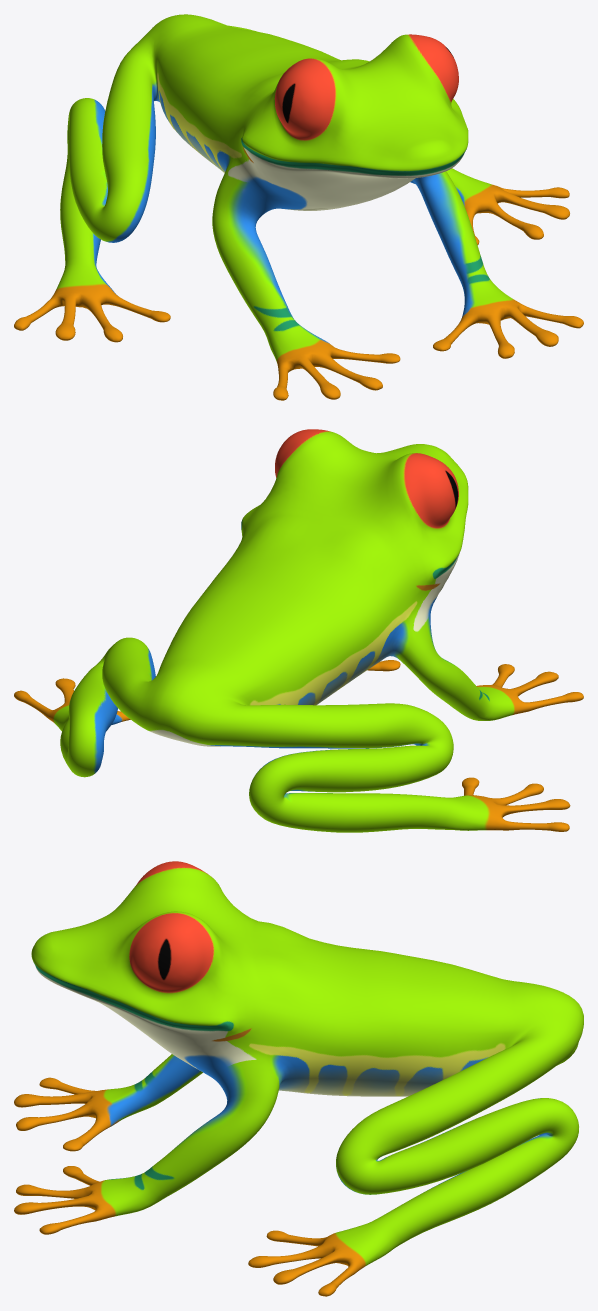
File: frog.glb
3 renders of one model, top to bottom at view 1: azimuth 30°, elevation 25°; view 2: azimuth 150°, elevation 25°; view 3: azimuth 270°, elevation 25°, orthographic.
Parts seen in each view (by area): view 1: frog.1; view 2: frog.1; view 3: frog.1.
Boxes of the visible parts, box(x1,y1,x2,y2) form: frog.1: box(14, 14, 583, 400); frog.1: box(14, 429, 583, 832); frog.1: box(14, 861, 583, 1296).
Size of the model in its own units: 0.0274 by 0.0127 by 0.024.
1 material, 1 textured.
